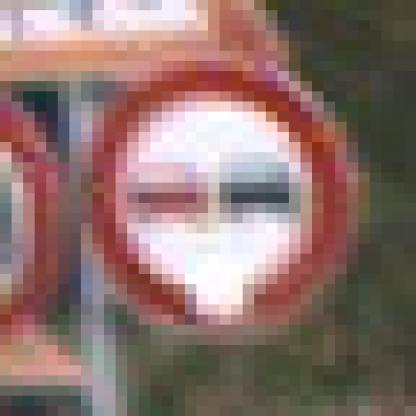No Overtaking: (59, 62, 359, 356)
